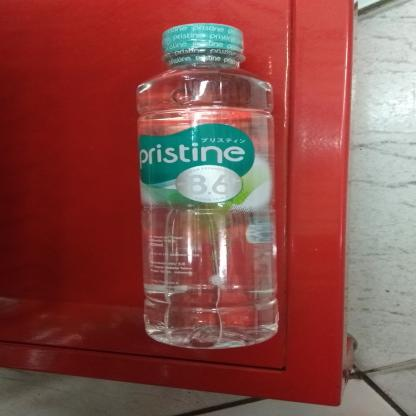plastic: (122, 17, 290, 360)
